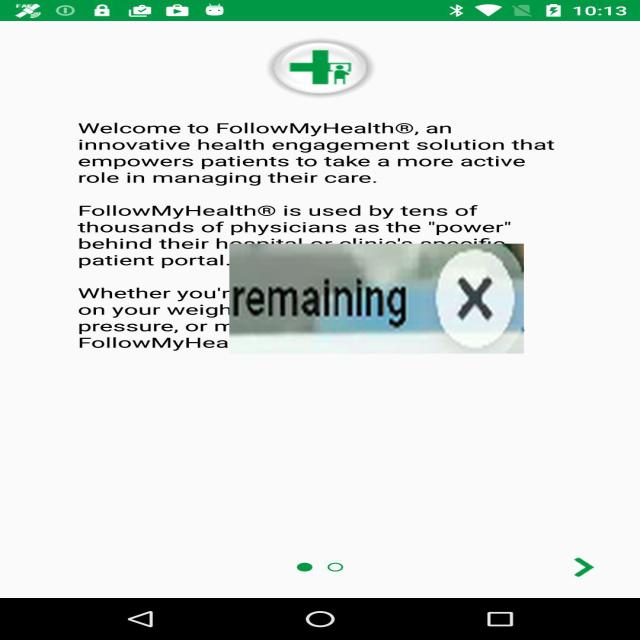misdirection: (229, 244, 524, 354)
